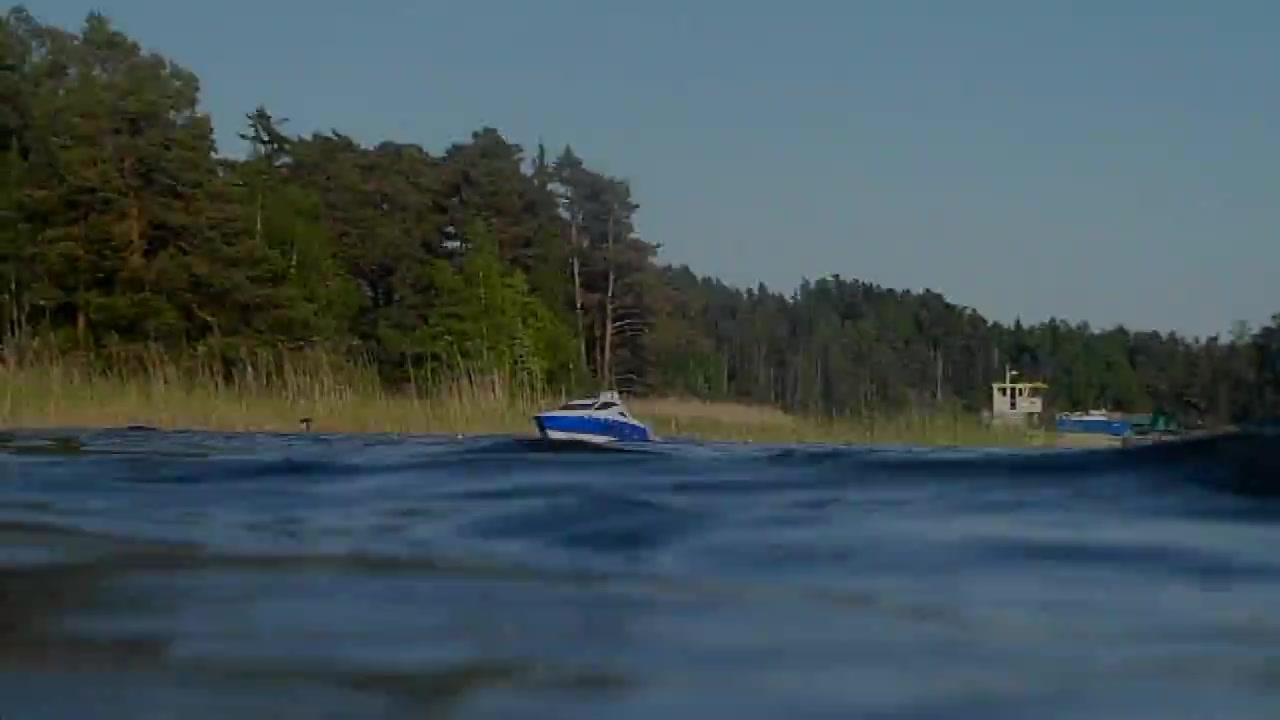boat: (527, 387, 660, 448)
